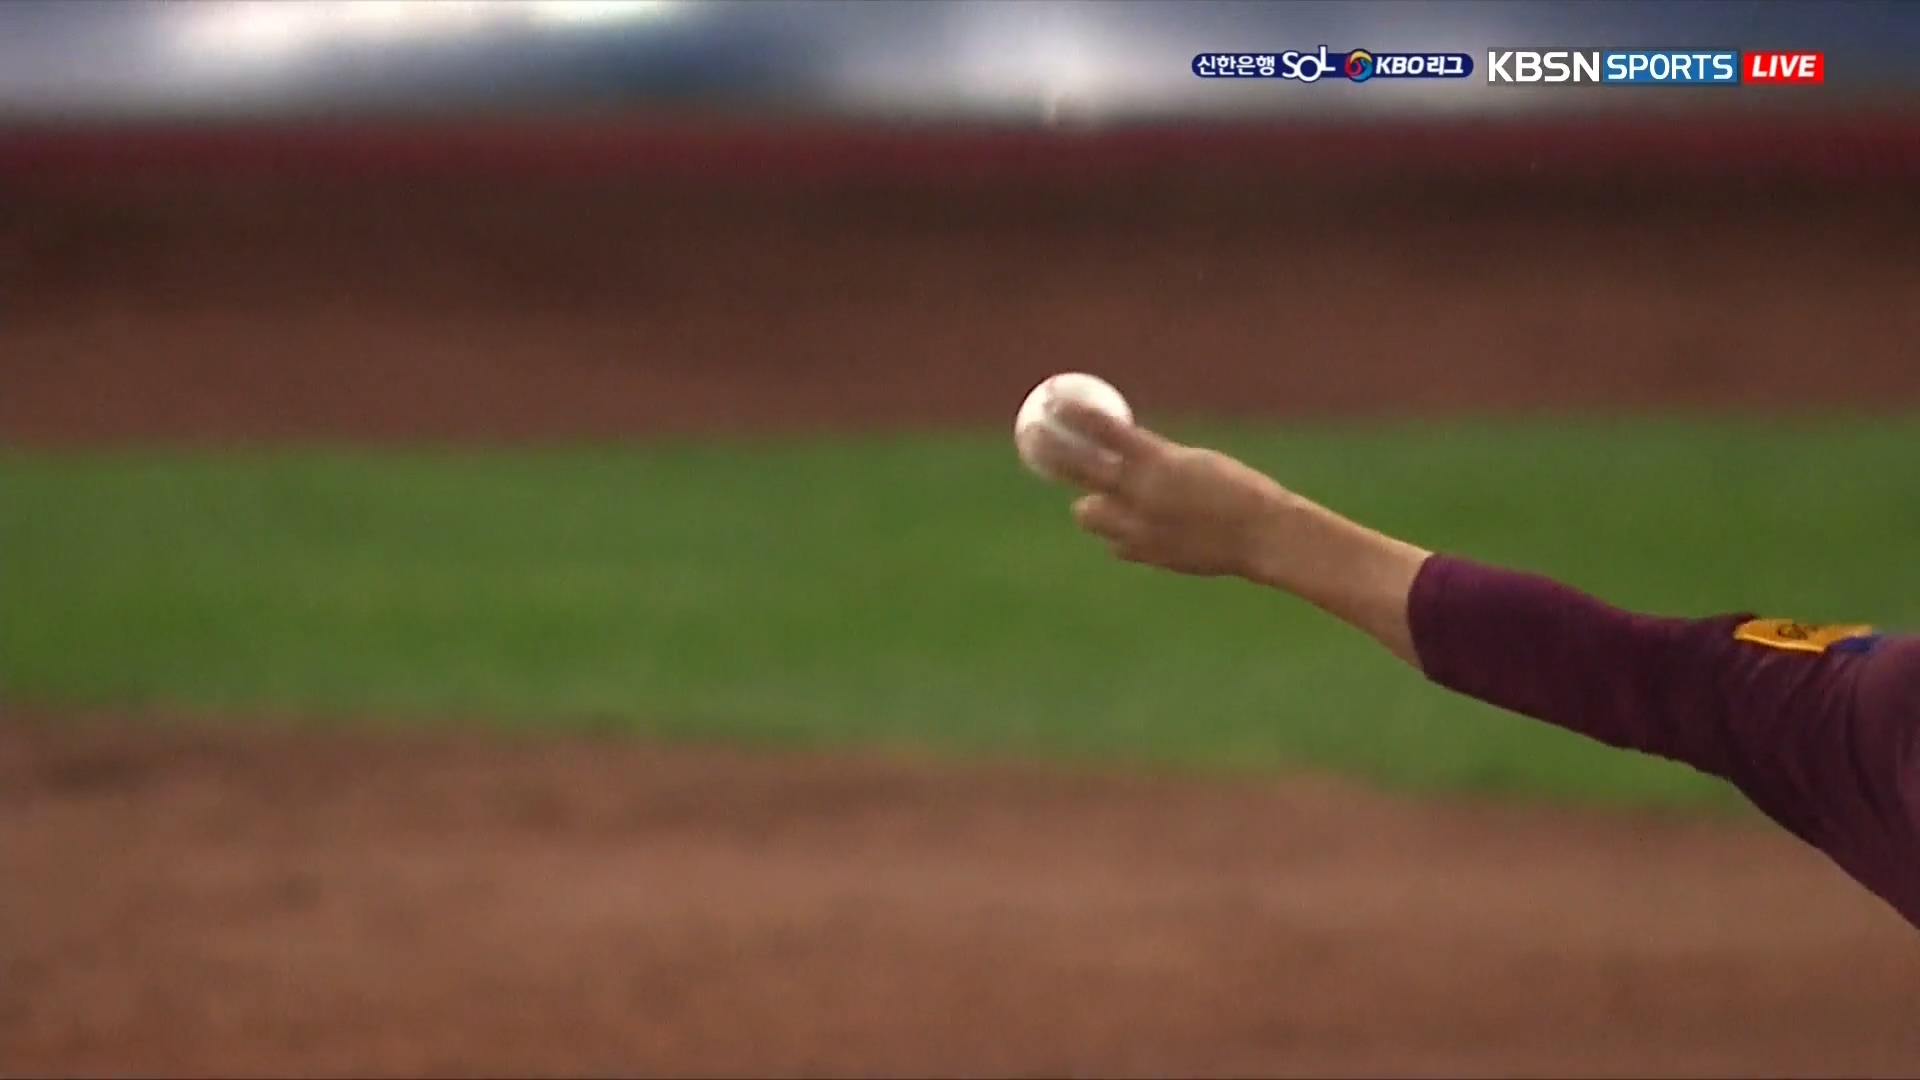zoomin_hand: (985, 356, 1687, 750)
